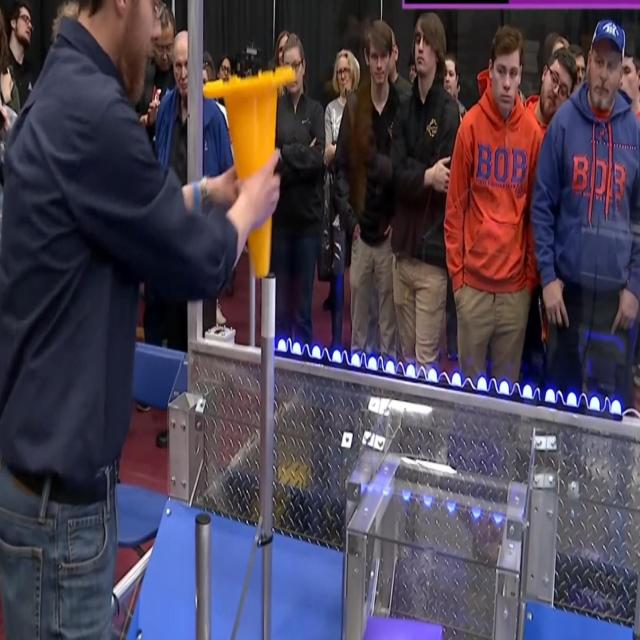frc_cone: (202, 65, 295, 279)
frc_cube: (358, 614, 449, 640)
